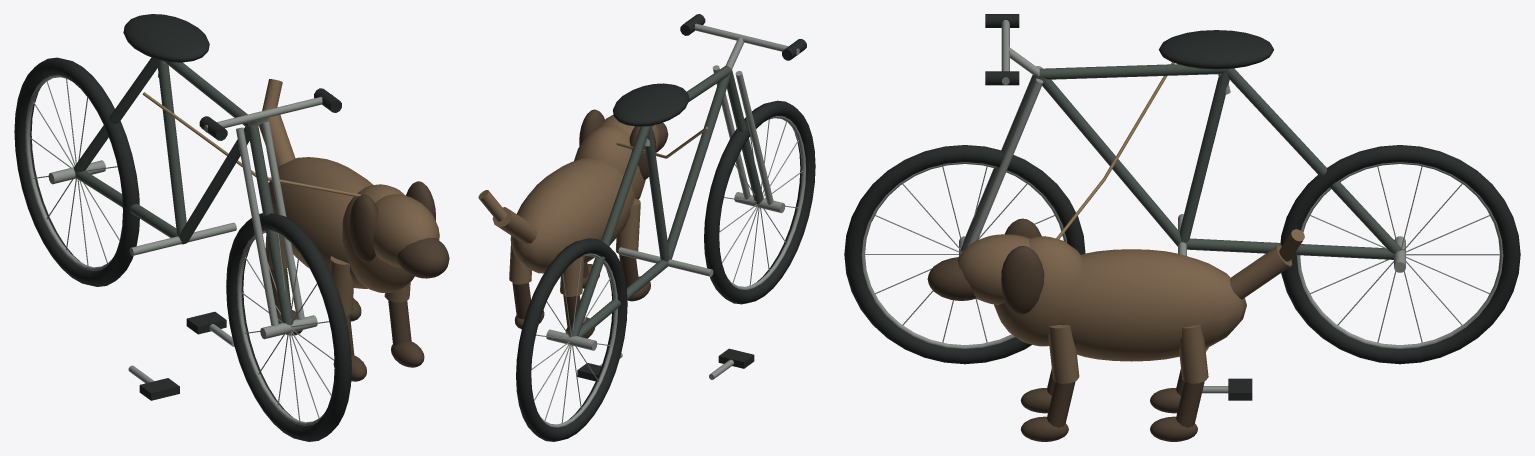
File: exterior-ambient-people-props.glb
3 views of the same model, side by side, from view 1: azimuth 30°, elevation 25°; view 2: azimuth 150°, elevation 25°; view 3: azimuth 270°, elevation 25° (orthographic). The views are drawn at different scales.
Parts seen in each view (by area): view 1: exterior_cycle_equipment, exterior_walker_dog, exterior_cycle_crank; view 2: exterior_cycle_equipment, exterior_walker_dog, exterior_cycle_crank; view 3: exterior_cycle_equipment, exterior_walker_dog, exterior_cycle_crank.
Part boxes in pixels (x1,y1,x2,y2): exterior_cycle_equipment: (14,14,351,441); exterior_walker_dog: (142,79,449,381); exterior_cycle_crank: (128,311,234,400); exterior_cycle_equipment: (516,14,815,441); exterior_walker_dog: (478,109,708,338); exterior_cycle_crank: (577,348,754,381); exterior_cycle_equipment: (844,14,1520,364); exterior_walker_dog: (927,62,1304,441); exterior_cycle_crank: (1202,378,1252,400).
Bounding box in the file's own units: 0.83 × 1.07 × 1.99.
